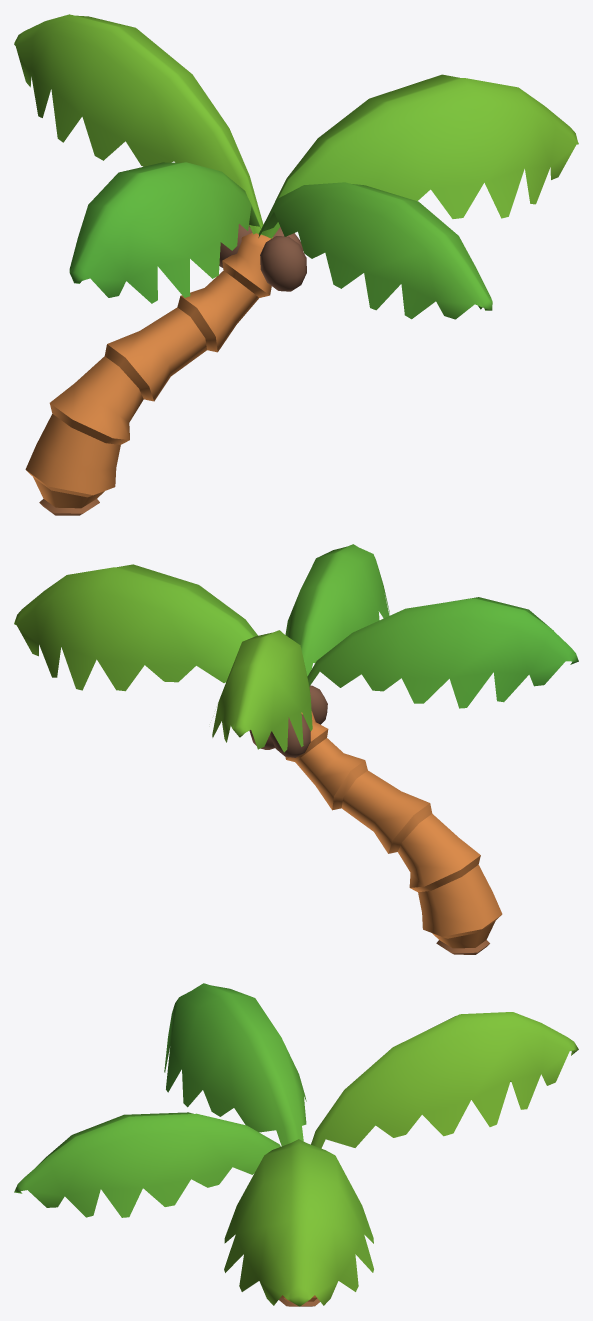
Rendered from Palm_1.FBX.
3 views of the same model, one above another, from view 1: azimuth 30°, elevation 25°; view 2: azimuth 150°, elevation 25°; view 3: azimuth 270°, elevation 25° (orthographic). The views are drawn at different scales.
Visible parts, largest first — view 1: Palm_1_1, Palm_1_4, Palm_1_3, Palm_1_2, Palm_1_5; view 2: Palm_1_1, Palm_1_4, Palm_1_3, Palm_1_2, Palm_1_5; view 3: Palm_1_1.
Part boxes in pixels (x1,y1,x2,y2): Palm_1_1: (14,14,578,319); Palm_1_4: (25,356,143,497); Palm_1_3: (104,307,206,401); Palm_1_2: (177,270,258,352); Palm_1_5: (33,477,104,515); Palm_1_1: (14,544,578,761); Palm_1_4: (398,813,502,938); Palm_1_3: (341,770,432,853); Palm_1_2: (295,738,367,810); Palm_1_5: (432,921,495,954); Palm_1_1: (14,983,578,1306).
Size of the model in its own units: 558 by 357 by 531.
Materials: 1 (1 with a texture image).
